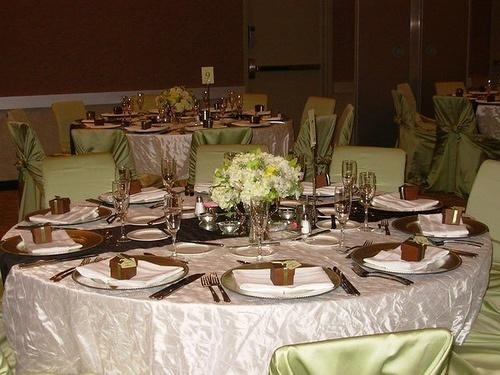chair: (270, 326, 450, 375), (432, 96, 479, 200), (389, 89, 433, 184), (40, 156, 120, 207), (460, 160, 500, 259), (327, 145, 410, 185), (72, 128, 141, 175), (189, 130, 254, 178), (194, 145, 270, 185), (7, 123, 42, 209), (296, 114, 338, 176), (51, 99, 86, 156), (337, 104, 355, 148), (302, 96, 337, 117), (238, 92, 270, 112), (128, 94, 171, 108), (431, 81, 471, 96), (398, 82, 417, 111), (6, 108, 29, 121)
diningtable: (1, 178, 493, 375), (74, 106, 295, 177), (453, 84, 500, 143)
